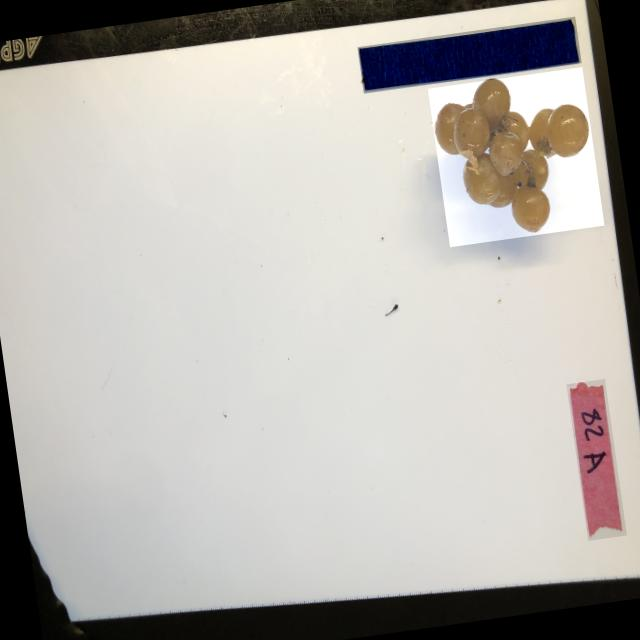grape_cluster: (426, 67, 604, 247)
index: (565, 379, 626, 541)
measure_label: (357, 16, 580, 94)
